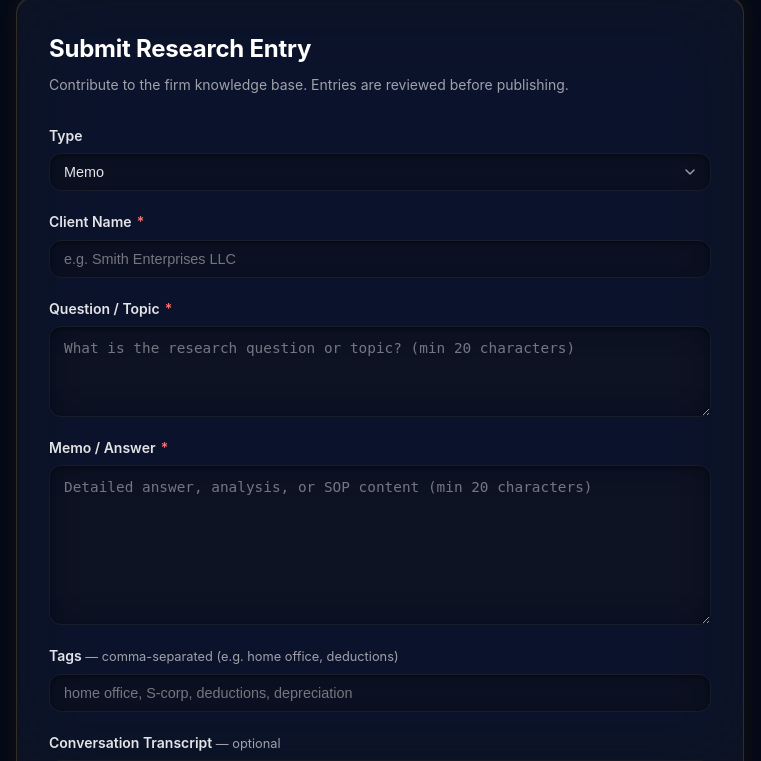
SubmissionForm component › form validation › shows error when memo is too short (under 20 chars)
In the field labelled "Client Name *": (380, 259) [49,240,711,278], type "Test Client"
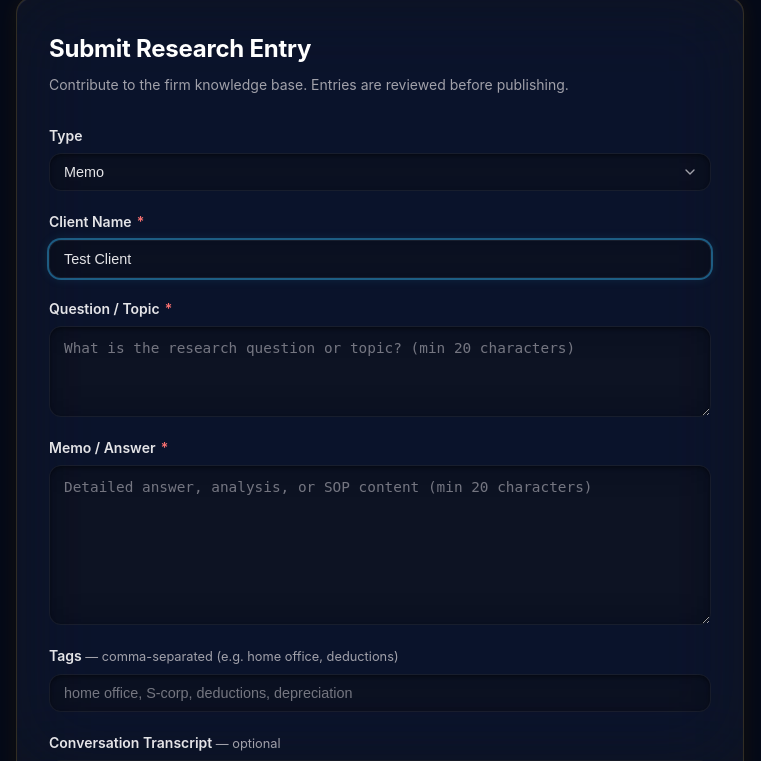
In the text box labelled "Question / Topic *": (380, 372) [49,326,711,417], type "This question is long enough to meet the requirement."
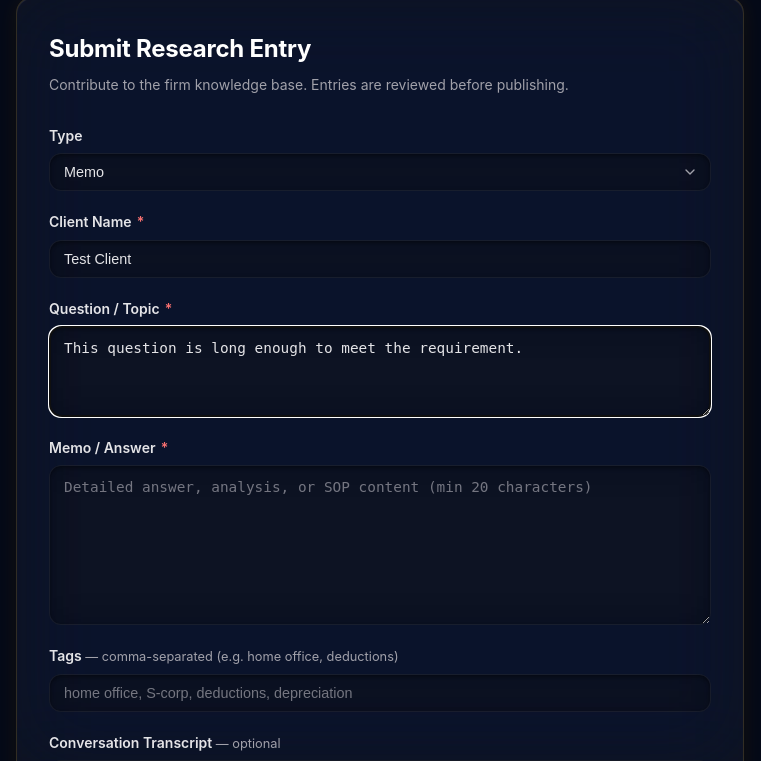
In the text box labelled "Memo / Answer *": (380, 545) [49,465,711,626], type "Too short"
(page scrolled)
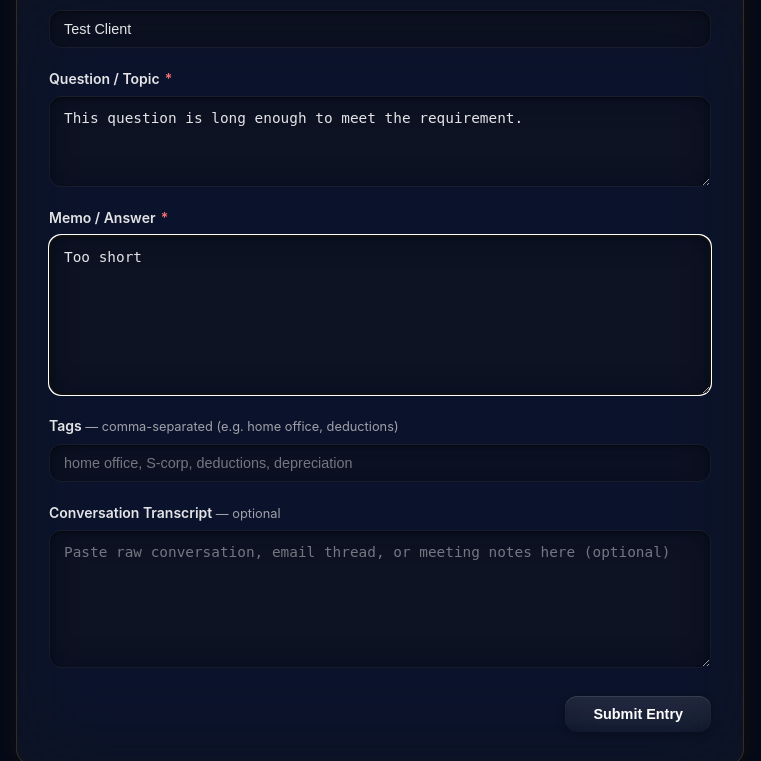
Click the button "Submit Entry": (638, 714) [565,696,711,732]
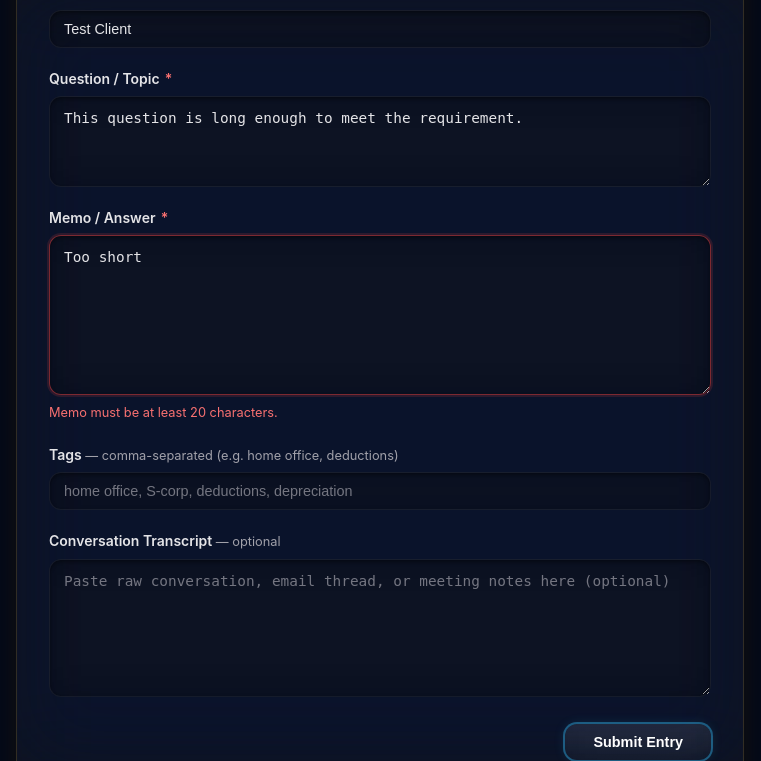
Expected: the text "Memo must be at least 20 characters." is shown, [49,406,278,420]
